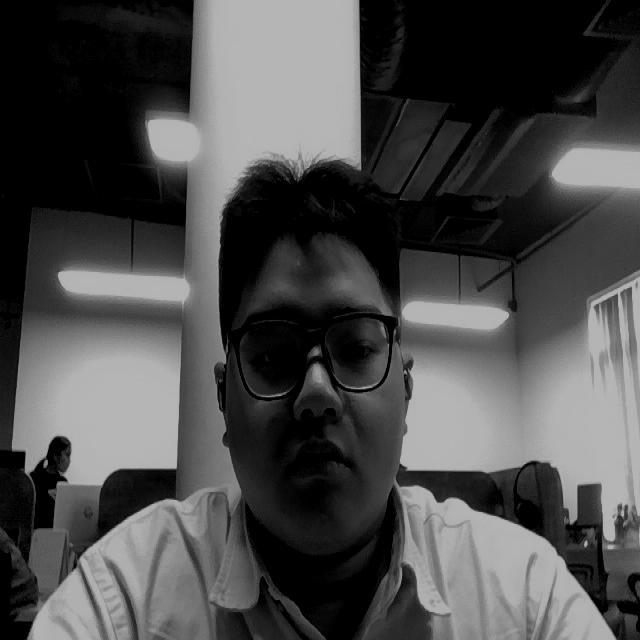real: (206, 151, 418, 567), (232, 318, 403, 378)
